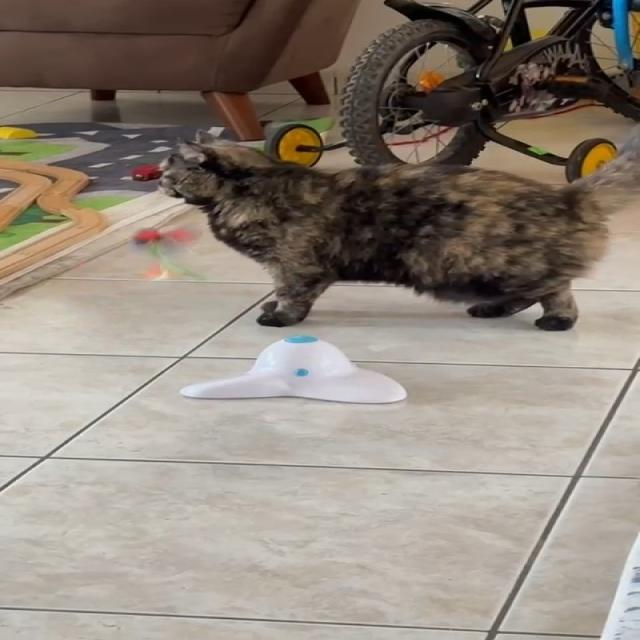authorized: (156, 126, 637, 331)
